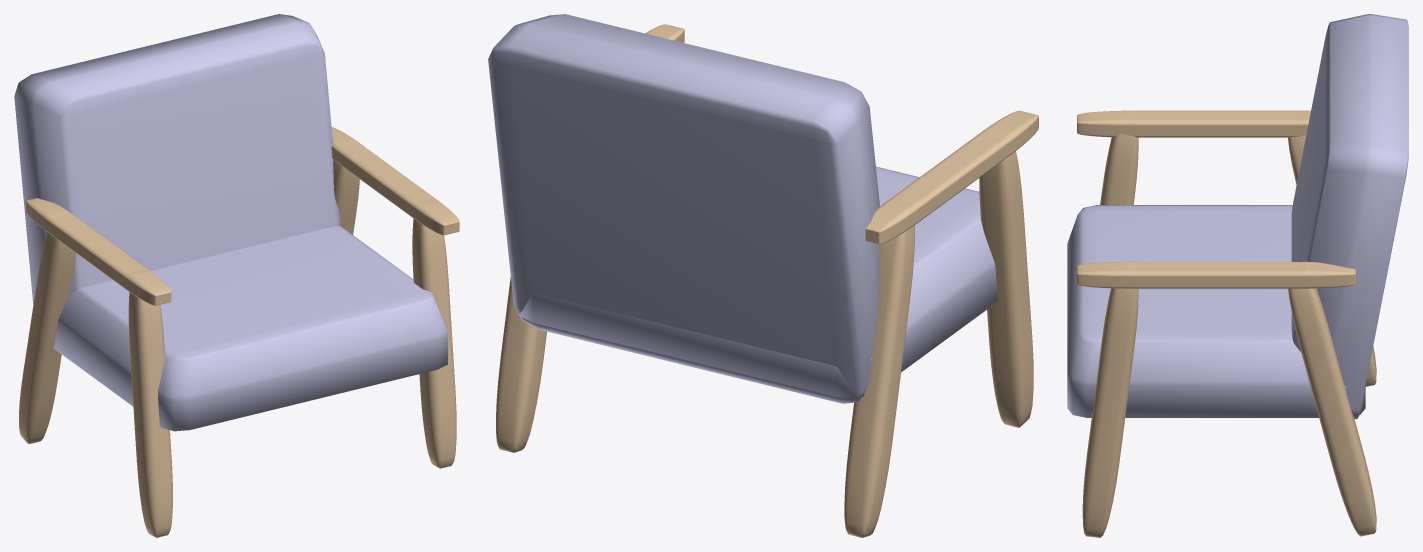
The model's file is chair_4.glb.
3 renders of one model, left to right at view 1: azimuth 30°, elevation 25°; view 2: azimuth 150°, elevation 25°; view 3: azimuth 270°, elevation 25°, orthographic. The views are drawn at different scales.
Parts seen in each view (by area): view 1: chair_4_001.001; view 2: chair_4_001.001; view 3: chair_4_001.001.
Boxes of the visible parts, <box> form: chair_4_001.001: <box>14,14,459,537</box>; chair_4_001.001: <box>488,14,1038,537</box>; chair_4_001.001: <box>1067,14,1408,537</box>.
Bounding box in the file's own units: 0.5901 × 0.6379 × 0.5188.
